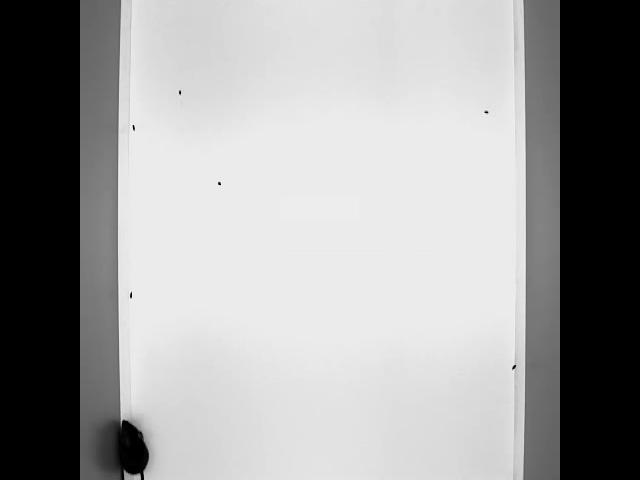Tikus: (115, 417, 149, 480)
